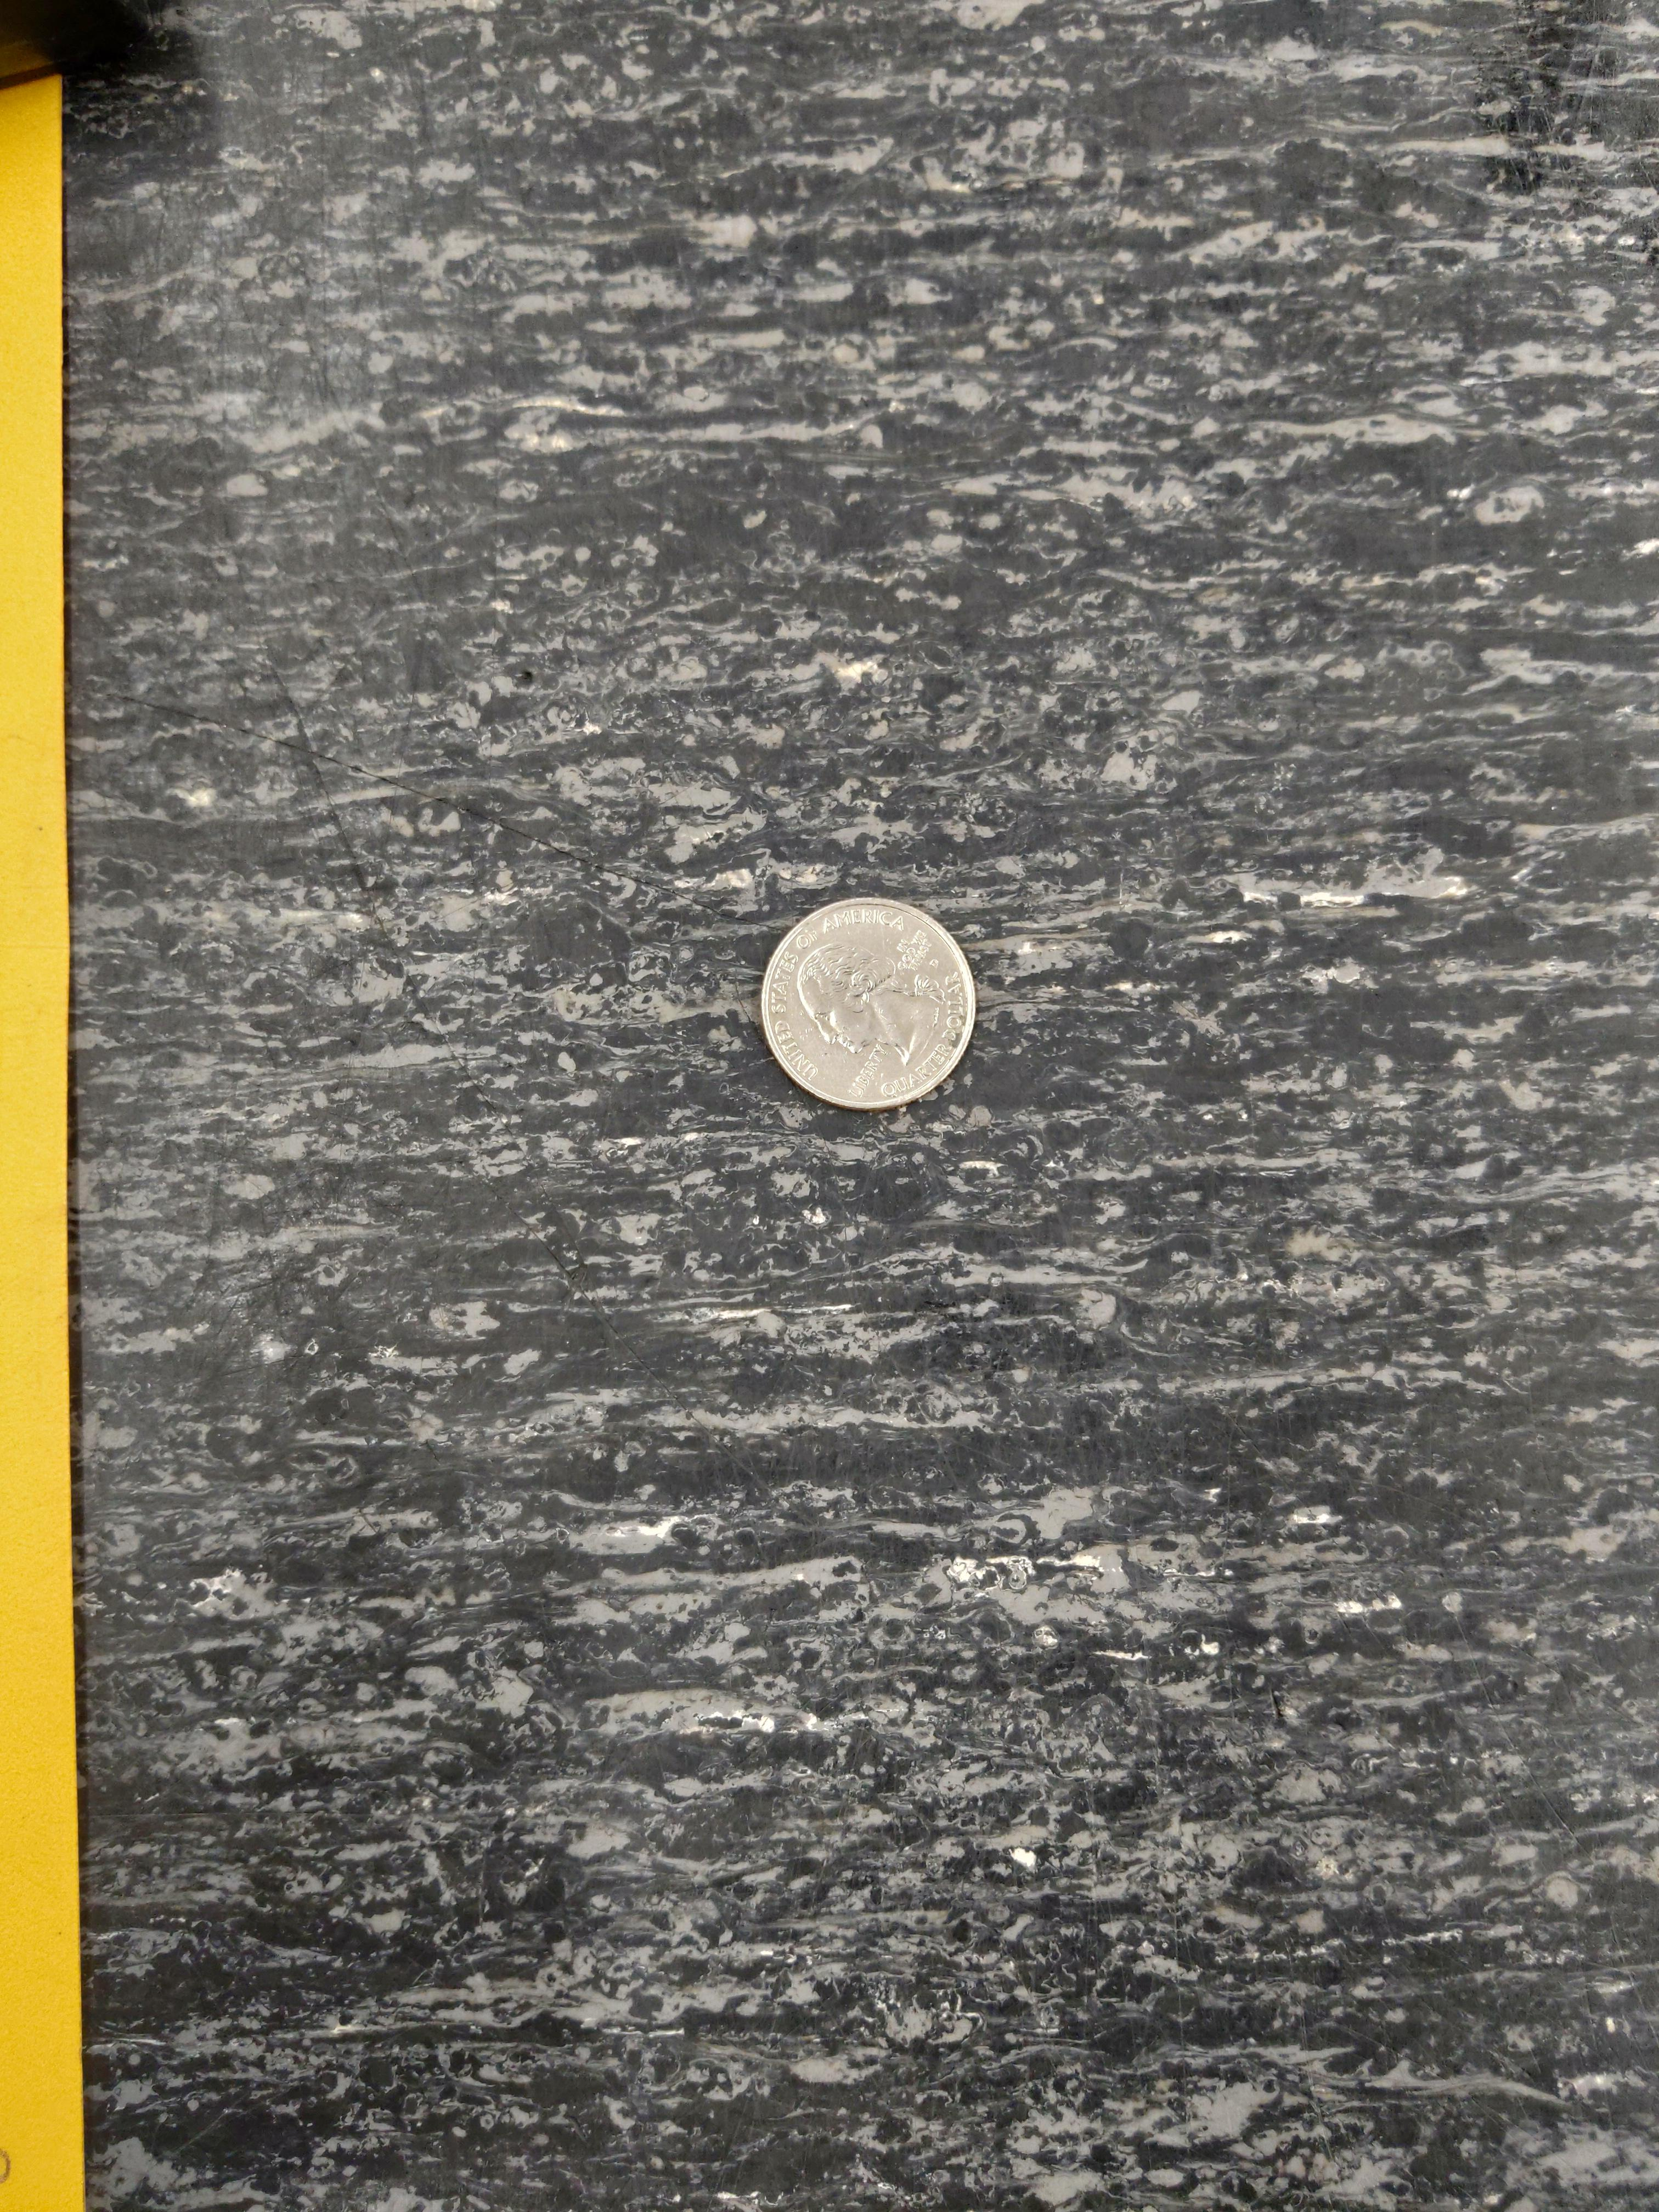Quarter: (758, 895, 979, 1115)
